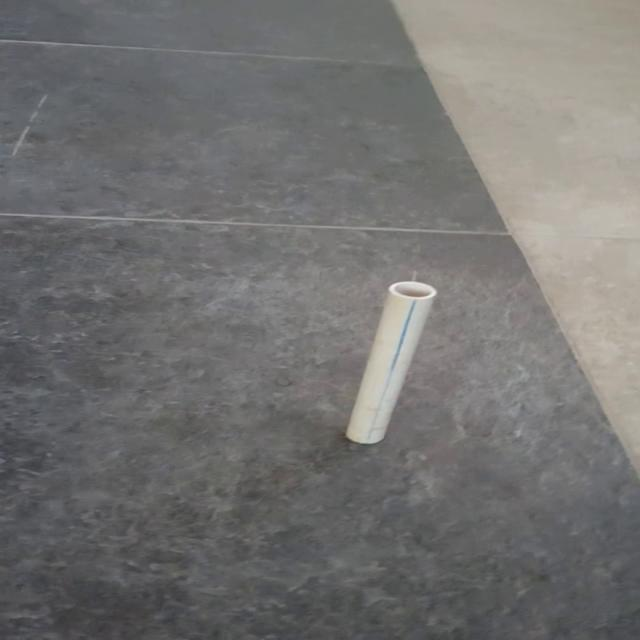Cube: (343, 280, 437, 444)
